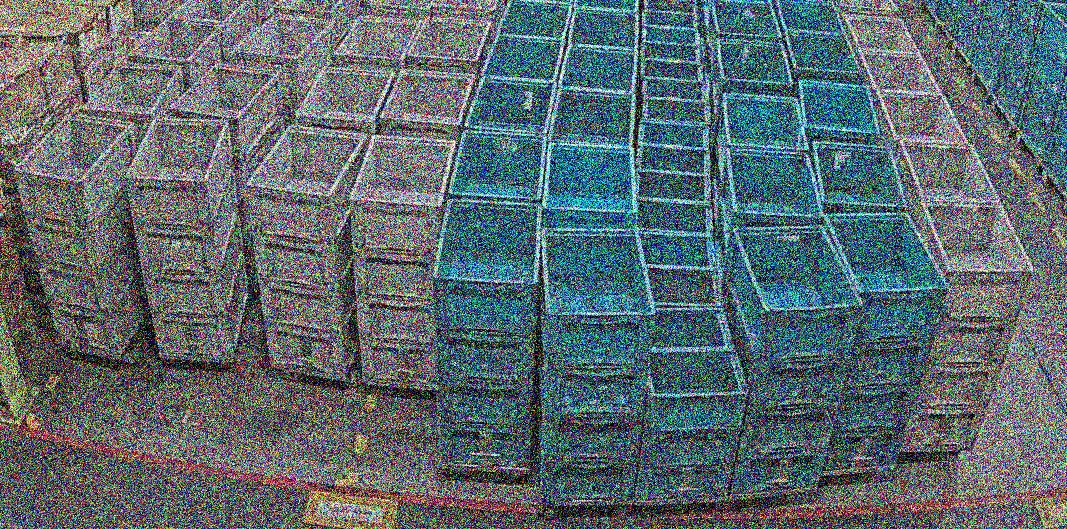4G: (899, 199, 1035, 453), (14, 113, 148, 356), (246, 125, 367, 381), (124, 118, 249, 363), (349, 135, 456, 391)
B4: (729, 218, 860, 495), (822, 212, 950, 471), (541, 228, 656, 503), (432, 199, 542, 468)
B8: (635, 307, 749, 500)
